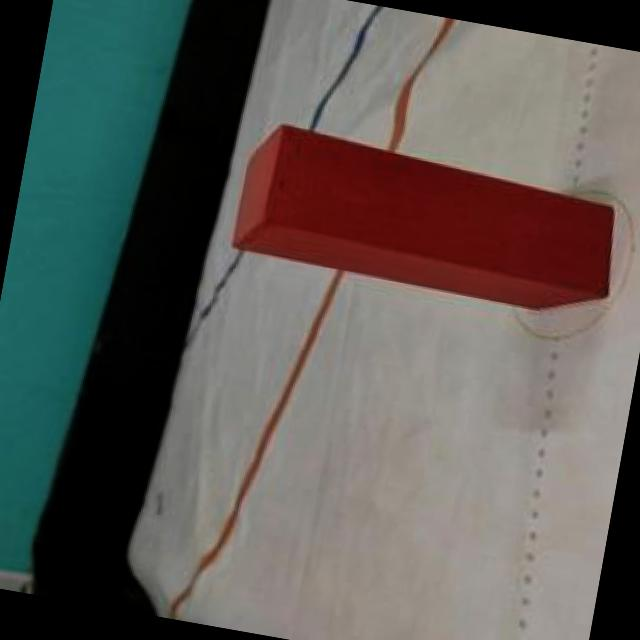redbox: (224, 119, 626, 320)
